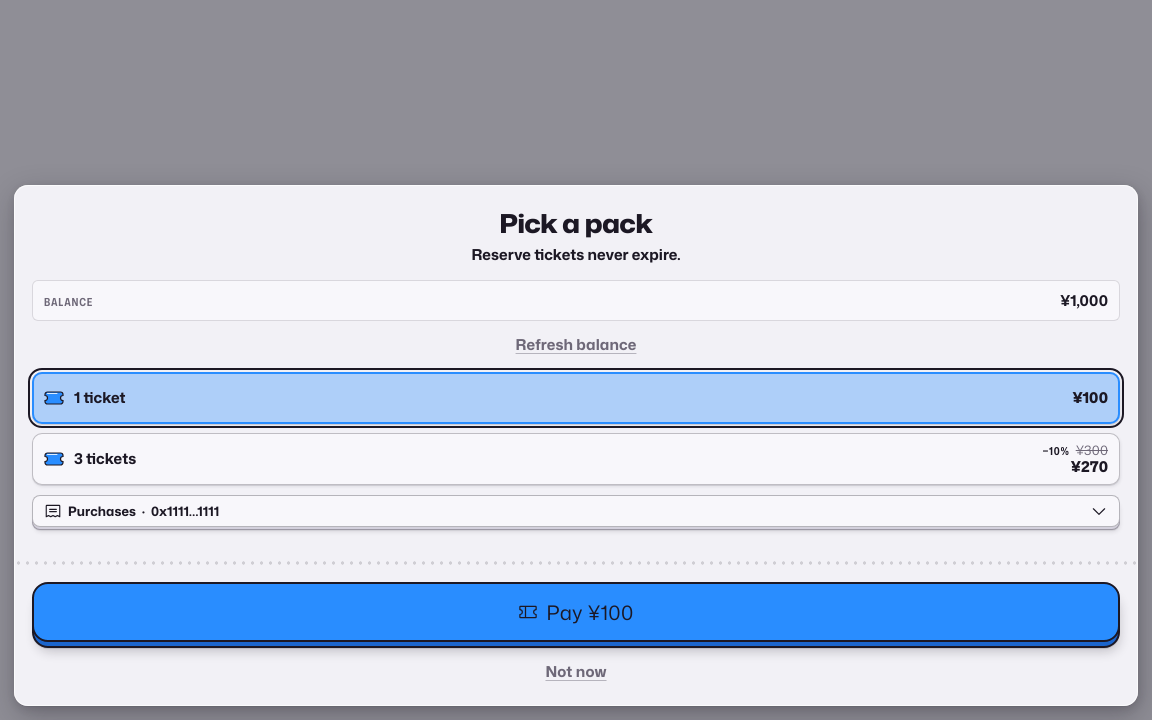
Test: ReserveTicketCheckout › says nothing was paid when the purchase can't be started, and signs nothing
Click the button "Pay ¥100" at (576, 615), box [32,582,1120,648]
Wait 500 ms
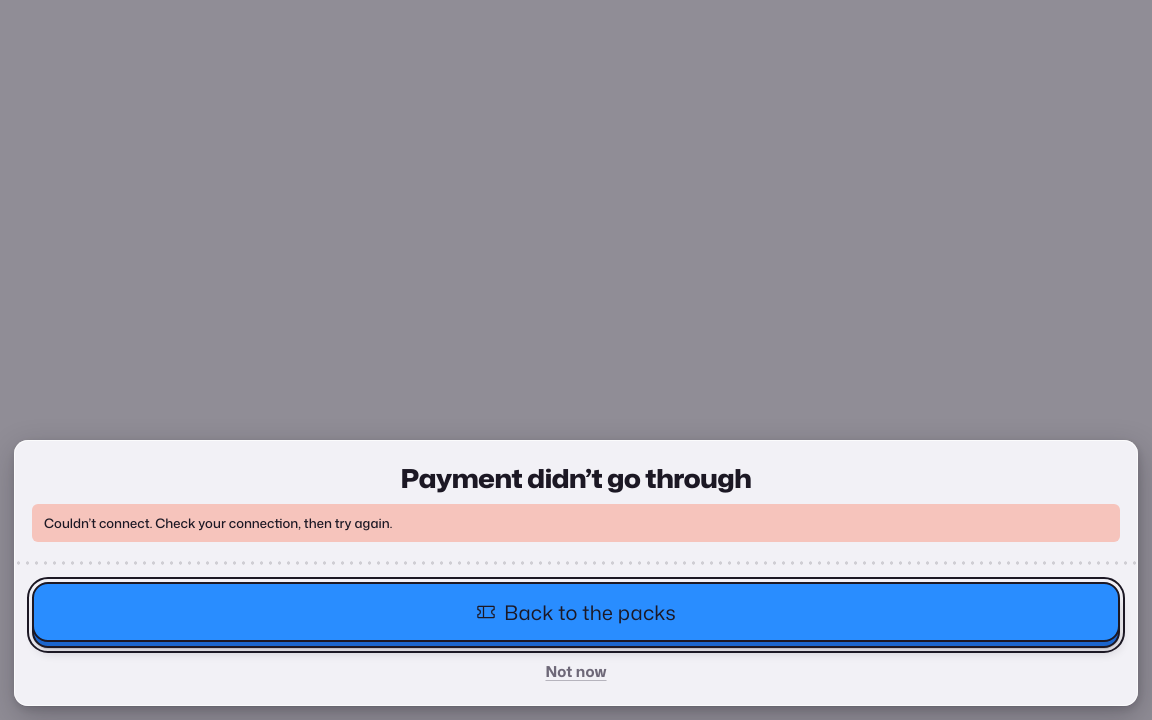
Now the heading "Payment didn’t go through" is shown, box [401,460,751,496]
Now the message "Couldn’t connect. Check your connection, then try again." is shown, box [44,514,392,532]
